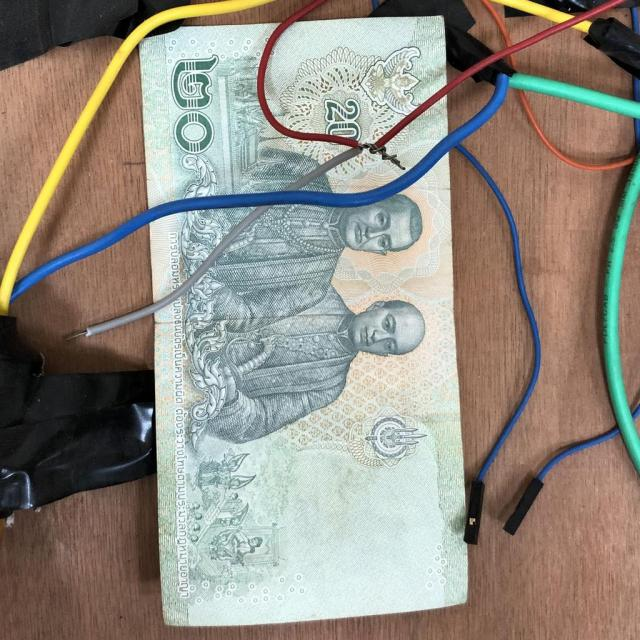THAI20: (149, 156, 469, 629), (138, 14, 454, 203)
